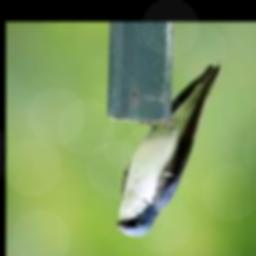Swallow: (113, 64, 221, 236)
